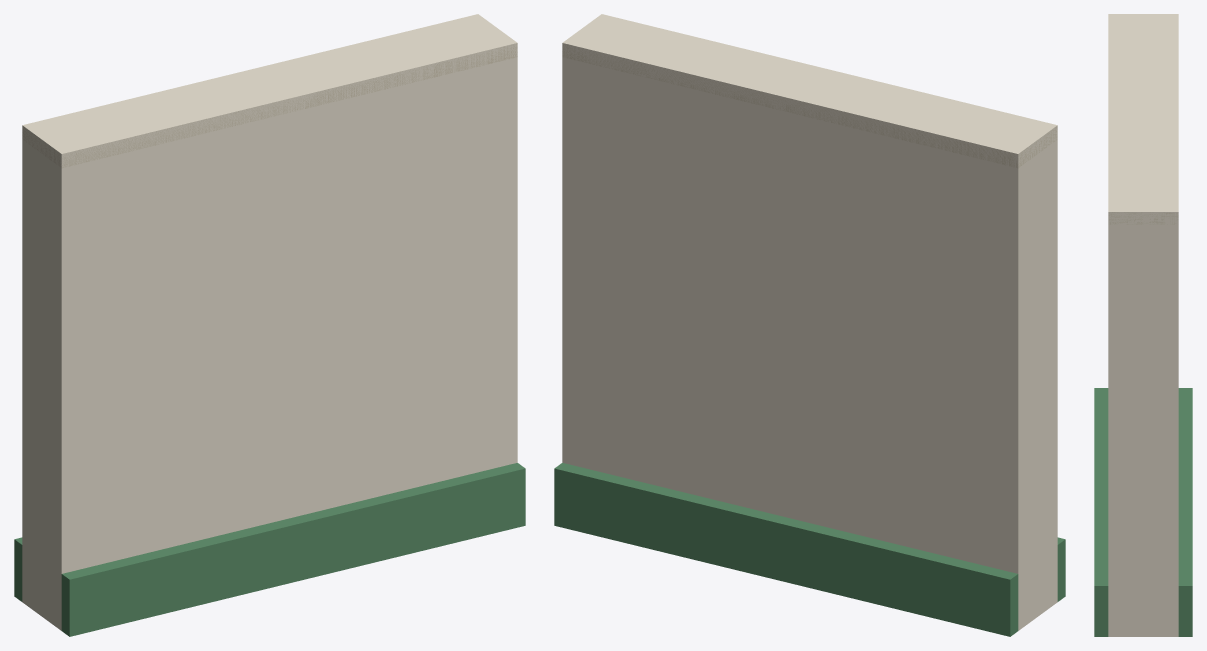
Rendered from partition.glb.
3 views of the same model, side by side, from view 1: azimuth 30°, elevation 25°; view 2: azimuth 150°, elevation 25°; view 3: azimuth 270°, elevation 25° (orthographic). The views are drawn at different scales.
Visible parts, largest first — view 1: partition; view 2: partition; view 3: partition.
Boxes of the visible parts, x1,y1,x2,y2 form: partition: (14, 14, 525, 636); partition: (554, 14, 1065, 636); partition: (1094, 14, 1192, 636).
Bounding box in the file's own units: 1 × 1 × 0.21.
Materials: 1 (1 with a texture image).
